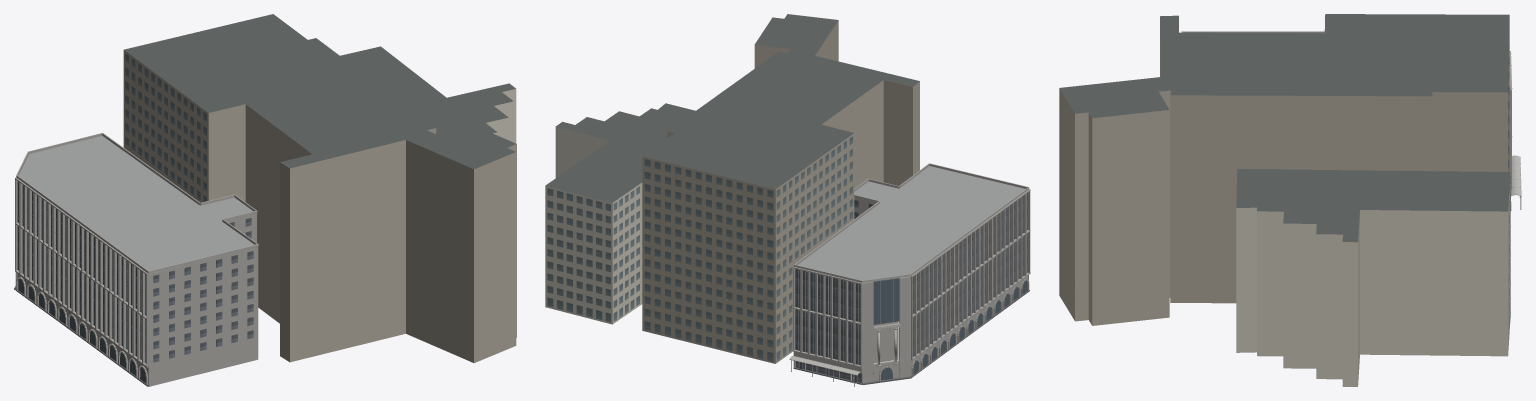
The picture shows the model from 3 angles, left to right: view 1: azimuth 30°, elevation 25°; view 2: azimuth 150°, elevation 25°; view 3: azimuth 270°, elevation 25°; orthographic projection. The views are drawn at different scales.
Parts seen in each view (by area): view 1: cell-e000-s001_base_tile-wall, cell-e000-s001_base_roof, SouthRoof_concrete.001, SouthShell_pale-stone.001, SouthUpper_pale-stone.001, SouthUpper_glazing.001, cell-e000-s001_base_glass, SouthShell_glazing.001, SouthRoof_pale-stone.001, SouthUpper_metal.001, SouthGround_pale-stone.001, SouthGround_glass-dark.001 (+2 smaller); view 2: cell-e000-s001_base_tile-wall, cell-e000-s001_base_roof, cell-e000-s001_base_glass, SouthUpper_pale-stone.001, SouthRoof_concrete.001, cell-e000-s001_base_plaster, SouthUpper_glazing.001, SouthUpper_metal.001, SouthGround_pale-stone.001, SouthRoof_pale-stone.001, SouthUpper_glazing-blinds.001, SouthUpper_glass-dark.001 (+3 smaller); view 3: cell-e000-s001_base_tile-wall, cell-e000-s001_base_roof, cell-e000-s001_base_plaster.
Part boxes in pixels (x1,y1,x2,y2): cell-e000-s001_base_tile-wall: [123, 50, 516, 362]; cell-e000-s001_base_roof: [124, 14, 516, 169]; SouthRoof_concrete.001: [18, 136, 253, 270]; SouthShell_pale-stone.001: [148, 213, 258, 386]; SouthUpper_pale-stone.001: [15, 136, 149, 367]; SouthUpper_glazing.001: [17, 181, 141, 359]; cell-e000-s001_base_glass: [125, 53, 206, 201]; SouthShell_glazing.001: [153, 218, 253, 362]; SouthRoof_pale-stone.001: [16, 133, 258, 273]; SouthUpper_metal.001: [19, 182, 146, 363]; SouthGround_pale-stone.001: [16, 273, 150, 386]; SouthGround_glass-dark.001: [18, 278, 146, 382]; cell-e000-s001_base_tile-wall: [642, 20, 919, 363]; cell-e000-s001_base_roof: [545, 14, 919, 202]; cell-e000-s001_base_glass: [547, 136, 852, 361]; SouthUpper_pale-stone.001: [793, 189, 1030, 382]; SouthRoof_concrete.001: [797, 166, 1025, 283]; cell-e000-s001_base_plaster: [545, 126, 642, 324]; SouthUpper_glazing.001: [795, 196, 1023, 363]; SouthUpper_metal.001: [798, 193, 1026, 364]; SouthGround_pale-stone.001: [793, 276, 1029, 382]; SouthRoof_pale-stone.001: [794, 163, 1029, 282]; SouthUpper_glazing-blinds.001: [810, 193, 1027, 364]; SouthUpper_glass-dark.001: [873, 278, 899, 324]; cell-e000-s001_base_tile-wall: [1059, 26, 1509, 325]; cell-e000-s001_base_roof: [1059, 14, 1510, 242]; cell-e000-s001_base_plaster: [1236, 173, 1510, 386].
Bounding box in the file's own units: 108 × 44.8 × 90.38.
Materials: 17 (7 with a texture image).
